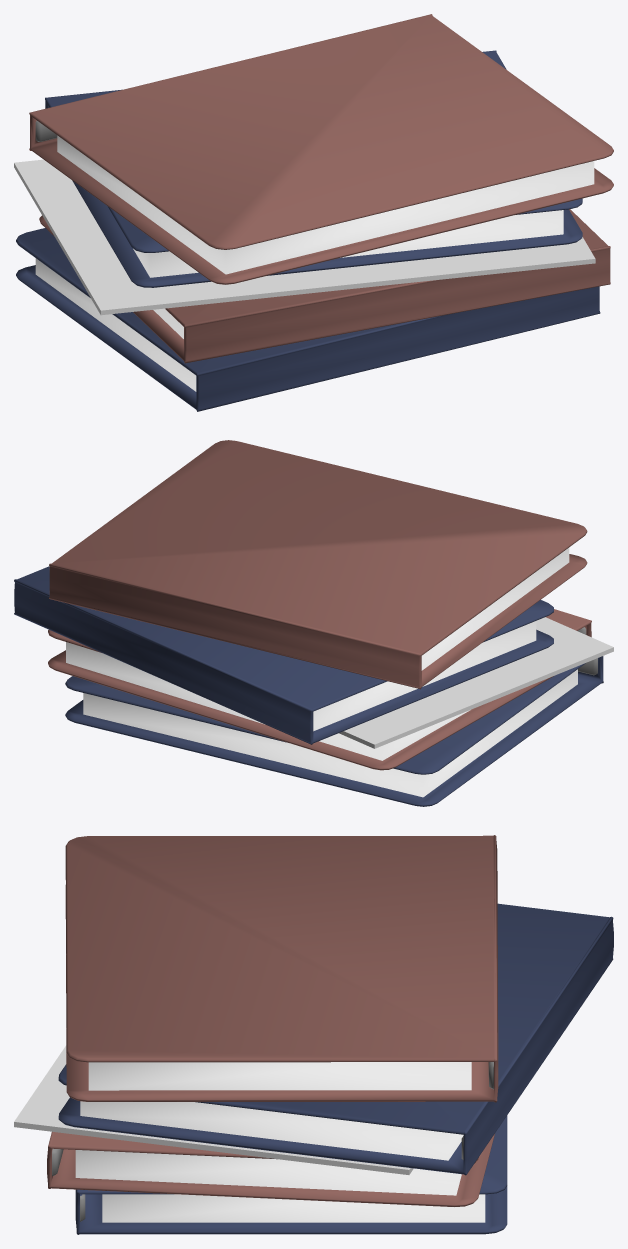
File: folderStackBig.fbx
The picture shows the model from 3 angles, top to bottom: view 1: azimuth 30°, elevation 25°; view 2: azimuth 150°, elevation 25°; view 3: azimuth 270°, elevation 25°; orthographic projection. The views are drawn at different scales.
Parts seen in each view (by area): view 1: Torus.007, Torus.005, Plane.001, Torus.003, Torus.006, Plane; view 2: Torus.007, Torus.006, Plane, Torus.005, Plane.001, Torus.003; view 3: Torus.007, Torus.006, Torus.005, Plane, Torus.003, Plane.001.
Part boxes in pixels (x1=…): Torus.007: x1=29, y1=14, x2=613, y2=284; Torus.005: x1=39, y1=209, x2=610, y2=363; Plane.001: x1=14, y1=159, x2=595, y2=315; Torus.003: x1=16, y1=241, x2=599, y2=411; Torus.006: x1=45, y1=50, x2=582, y2=287; Plane: x1=16, y1=228, x2=600, y2=409; Torus.007: x1=49, y1=440, x2=587, y2=689; Torus.006: x1=14, y1=566, x2=553, y2=744; Plane: x1=65, y1=656, x2=602, y2=805; Torus.005: x1=48, y1=609, x2=591, y2=770; Plane.001: x1=339, y1=617, x2=613, y2=748; Torus.003: x1=66, y1=656, x2=603, y2=806; Torus.007: x1=65, y1=835, x2=498, y2=1102; Torus.006: x1=58, y1=903, x2=613, y2=1175; Torus.005: x1=47, y1=1131, x2=494, y2=1206; Plane: x1=75, y1=1115, x2=507, y2=1234; Torus.003: x1=75, y1=1187, x2=507, y2=1234; Plane.001: x1=14, y1=1045, x2=413, y2=1174.
Size of the model in its own units: 41.59 by 12.29 by 36.22.
